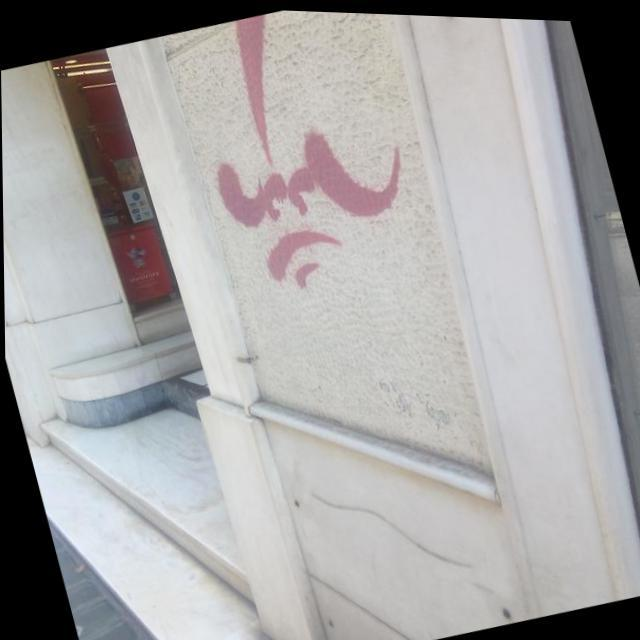-: (170, 5, 430, 302)
